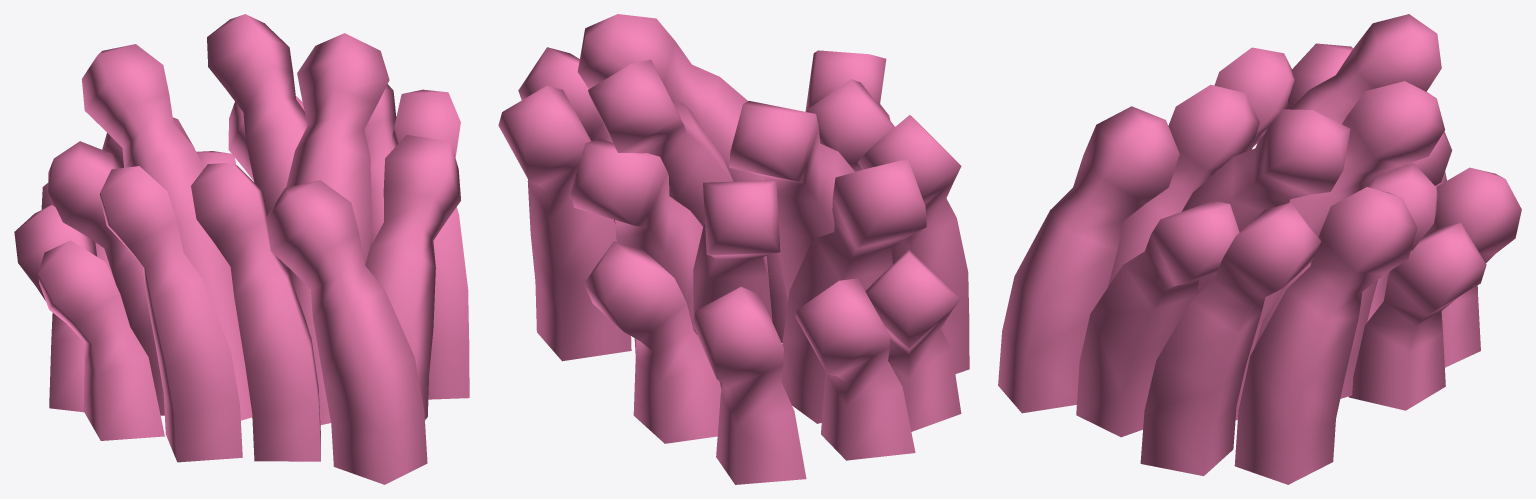
File: CrazyCoral.FBX
3 views of the same model, side by side, from view 1: azimuth 30°, elevation 25°; view 2: azimuth 150°, elevation 25°; view 3: azimuth 270°, elevation 25° (orthographic). The views are drawn at different scales.
Parts seen in each view (by area): view 1: Sphere015, Sphere003, Sphere016, Sphere007, Sphere009, Sphere010, Sphere019, Sphere008, Sphere017, Sphere011, Sphere013, Sphere018 (+2 smaller); view 2: Sphere018, Sphere002, Sphere001, Sphere011, Sphere013, Sphere007, Sphere009, Sphere014, Sphere010, Sphere008, Sphere003, Sphere012 (+3 smaller); view 3: Sphere018, Sphere015, Sphere017, Sphere019, Sphere002, Sphere009, Sphere008, Sphere016, Sphere001, Sphere007, Sphere003, Sphere014 (+2 smaller).
Part boxes in pixels (left/top/right/bottom): Sphere015: left=266, top=180, right=427, bottom=484; Sphere003: left=99, top=166, right=242, bottom=462; Sphere016: left=191, top=162, right=320, bottom=461; Sphere007: left=82, top=44, right=252, bottom=420; Sphere009: left=282, top=33, right=389, bottom=425; Sphere010: left=38, top=240, right=164, bottom=440; Sphere019: left=365, top=134, right=460, bottom=419; Sphere008: left=207, top=14, right=307, bottom=214; Sphere017: left=390, top=89, right=469, bottom=399; Sphere011: left=48, top=141, right=164, bottom=415; Sphere013: left=14, top=205, right=96, bottom=412; Sphere018: left=364, top=84, right=396, bottom=248; Sphere018: left=498, top=85, right=631, bottom=361; Sphere002: left=584, top=241, right=721, bottom=443; Sphere001: left=693, top=286, right=806, bottom=484; Sphere011: left=781, top=159, right=926, bottom=423; Sphere013: left=795, top=278, right=915, bottom=460; Sphere007: left=729, top=101, right=854, bottom=300; Sphere009: left=577, top=14, right=787, bottom=342; Sphere014: left=570, top=139, right=703, bottom=352; Sphere010: left=865, top=249, right=961, bottom=431; Sphere008: left=588, top=59, right=733, bottom=226; Sphere003: left=857, top=115, right=969, bottom=374; Sphere012: left=693, top=180, right=780, bottom=389; Sphere018: left=1234, top=187, right=1417, bottom=484; Sphere015: left=998, top=106, right=1179, bottom=413; Sphere017: left=1140, top=202, right=1321, bottom=476; Sphere019: left=1076, top=200, right=1239, bottom=437; Sphere002: left=1349, top=222, right=1486, bottom=410; Sphere009: left=1181, top=109, right=1350, bottom=294; Sphere008: left=1235, top=81, right=1444, bottom=419; Sphere016: left=1108, top=84, right=1259, bottom=286; Sphere001: left=1423, top=167, right=1521, bottom=367; Sphere007: left=1256, top=14, right=1441, bottom=146; Sphere003: left=1214, top=47, right=1294, bottom=147; Sphere014: left=1254, top=163, right=1438, bottom=347.
Size of the model in its own units: 125 by 97.27 by 135.
Materials: 1 (1 with a texture image).
